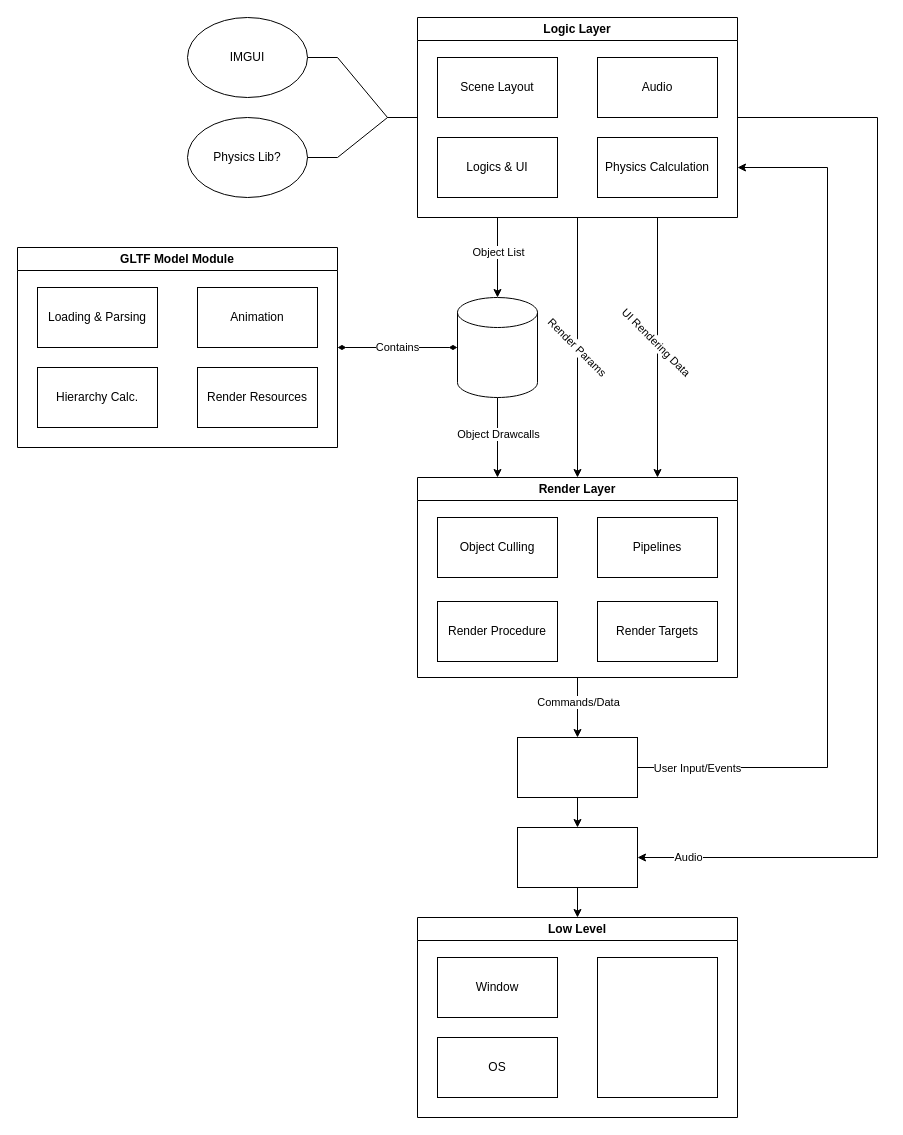
Some shapes in this 903 by 1135 pixel diagram are drawn without their labels. The centre of each missing label's shape, as x and y in pixels:
GLTF Model Pool: [497,347]
GPU: [657,1027]
RAII Interface: [577,767]
SDL: [577,857]
